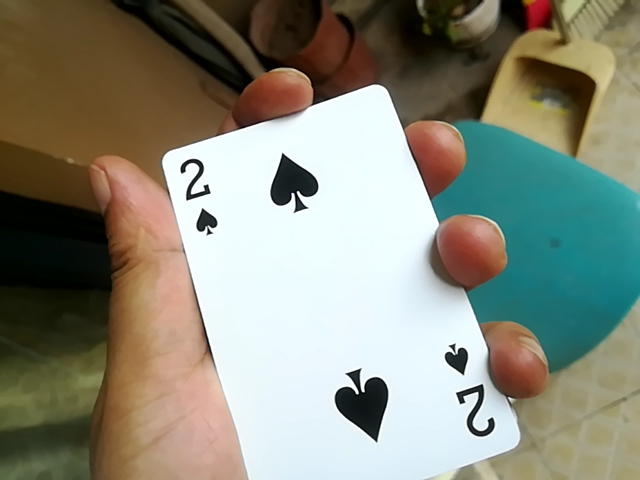ht 2: (137, 85, 498, 478)
